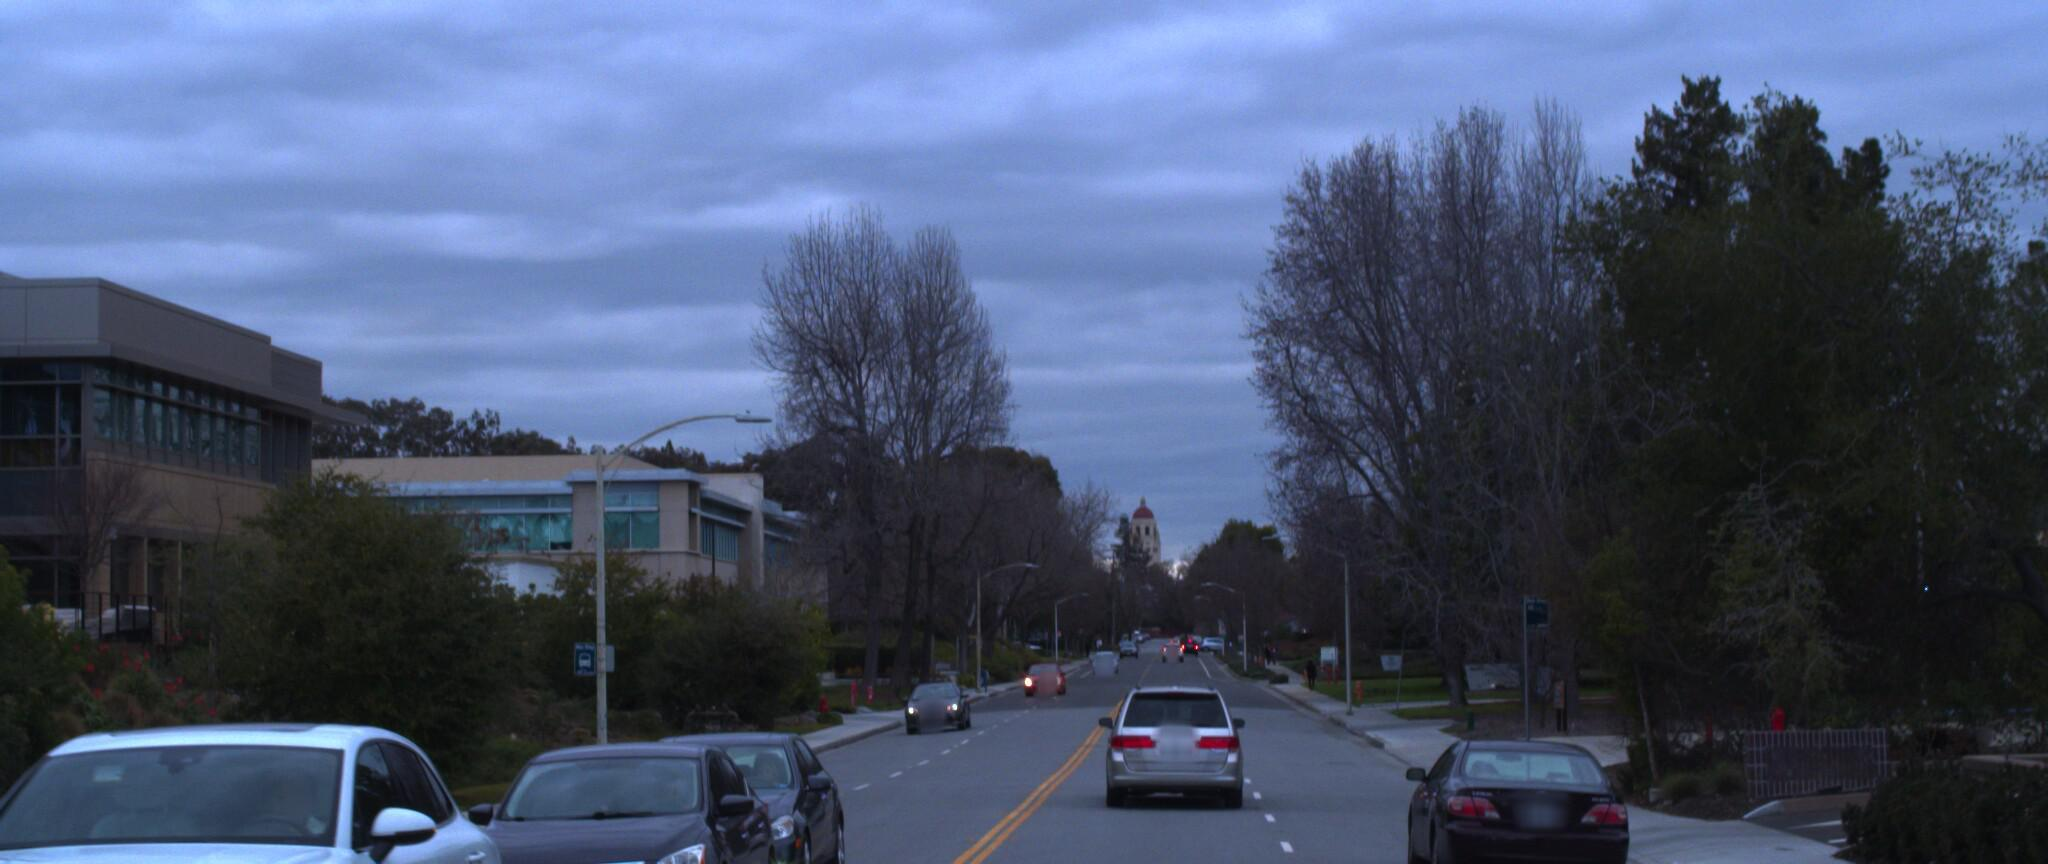car: (0, 701, 555, 864), (418, 733, 788, 864), (1384, 717, 1633, 864), (596, 727, 854, 864), (1091, 673, 1240, 801)
